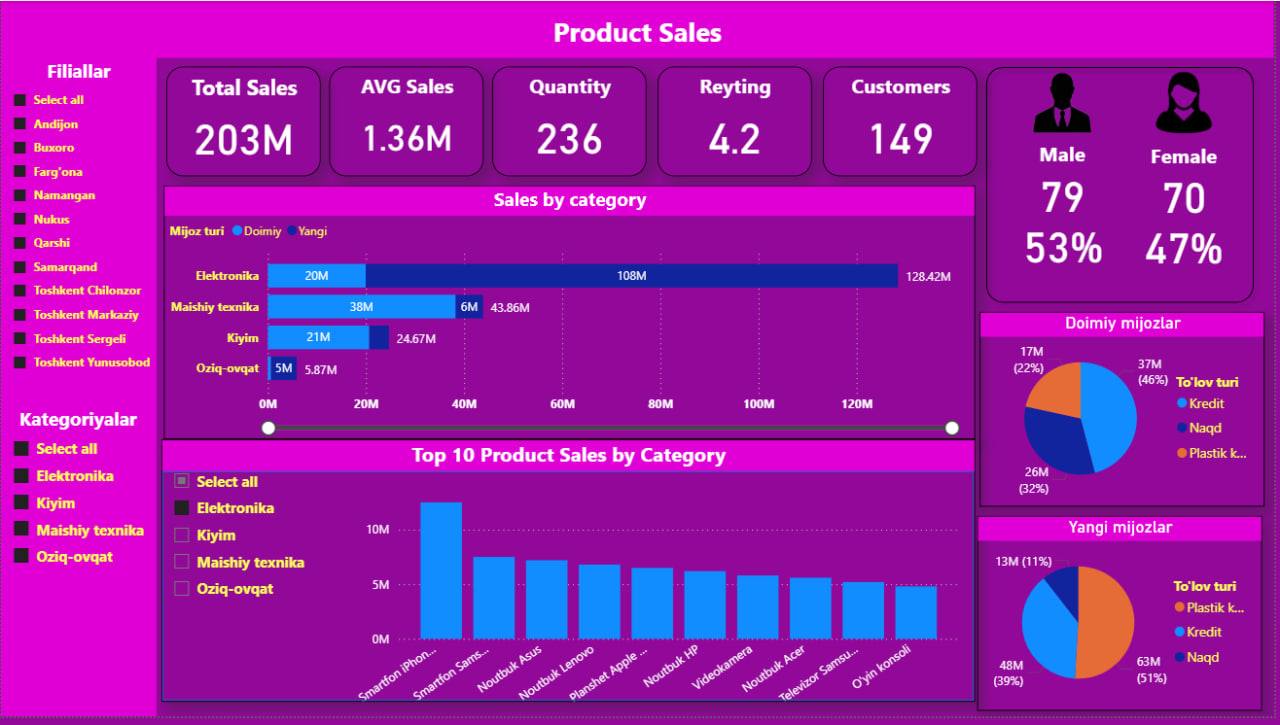

The page's visual inventory and layout, read from the dashboard file:
{"tool":"powerbi","page":{"name":"Product Sales","canvas":[1280,720],"ordinal":0},"visuals":[{"type":"shape","box":[0,0,1280.3,57.5],"z":0},{"type":"shape","box":[0,0,156.5,720.2],"z":1000},{"type":"textbox","box":[542.9,7.3,194.4,50.1],"z":2000},{"type":"card","title":"Total Sales","fields":{"Values":["Sum(Products.Jami)"]},"box":[166.3,66,155.3,110.1],"z":3000},{"type":"card","title":"AVG Sales","fields":{"Values":["Avg(Products.Jami)"]},"box":[330.2,66,155.3,110.1],"z":4000},{"type":"card","title":"Male","fields":{"Values":["Products.% Male"]},"box":[1022.3,210.3,91.7,68.5],"z":5000},{"type":"card","title":"Reyting","fields":{"Values":["Avg(Products.Reyting)"]},"box":[660.3,66,155.3,110.1],"z":6000},{"type":"card","title":"Female","fields":{"Values":["Products.% Female"]},"box":[1139.7,203,100.3,84.4],"z":7000},{"type":"card","title":"Quantity","fields":{"Values":["Sum(Products.Miqdori)"]},"box":[494,66,155.3,110.1],"z":8000},{"type":"slicer","title":"Filiallar","fields":{"Values":["Products.Filial"]},"box":[0,57.5,156.5,325.3],"z":9000},{"type":"card","title":"Customers","fields":{"Values":["Products.Customers"]},"box":[826.6,66,155.3,110.1],"z":10000},{"type":"shape","box":[981.9,57.5,287.4,255.6],"z":11000},{"type":"image","box":[1026,66,81.9,73.4],"z":12000},{"type":"card","title":"Male","fields":{"Values":["Products.Male"]},"box":[1017.4,139.4,100.3,80.7],"z":13000},{"type":"card","title":"Female","fields":{"Values":["Products.Female"]},"box":[1139.7,141.8,100.3,78.3],"z":14000},{"type":"image","box":[1149.5,66,80.7,73.4],"z":15000},{"type":"barChart","title":"Sales by category","fields":{"Y":["Sum(Products.Jami)"],"Category":["Products.Kategoriya"],"Series":["Products.Mijoz turi"]},"box":[163.9,185.9,815.6,255.6],"z":16000},{"type":"columnChart","fields":{"Category":["Category.Mahsulot"],"Y":["Sum(Category.Jami)"]},"box":[351,474.5,617.5,245.8],"z":17000},{"type":"shape","title":"Top 10 Product Sales by Category","box":[161.4,441.4,818.1,264.1],"z":18000},{"type":"slicer","title":"Kategoriyalar","fields":{"Values":["Products.Kategoriya"]},"box":[0,407.5,155.1,185.2],"z":19000},{"type":"slicer","fields":{"Values":["Category.Kategoriya"]},"box":[161.9,465.2,155.1,255.2],"z":20000},{"type":"pieChart","title":"Doimiy mijozlar","fields":{"Category":["Products.To'lov turi"],"Y":["Sum(Products.Jami)"]},"box":[983.9,312.9,286.8,196],"z":21000},{"type":"pieChart","title":"Yangi mijozlar","fields":{"Category":["Products.To'lov turi"],"Y":["Sum(Products.Jami)"]},"box":[982.5,518.7,286.8,196],"z":22000}]}

Visuals, with their boxes in screenshot pixels (x1, y1, x2, y2), scaled from the page's 1280x720 canvas onto the 1280x725 screenshot:
shape: <box>0,0,1279,58</box>
shape: <box>0,0,156,724</box>
textbox: <box>543,7,737,58</box>
"Total Sales" card: <box>166,66,322,177</box>
"AVG Sales" card: <box>330,66,486,177</box>
"Male" card: <box>1022,212,1114,281</box>
"Reyting" card: <box>660,66,816,177</box>
"Female" card: <box>1140,204,1240,289</box>
"Quantity" card: <box>494,66,649,177</box>
"Filiallar" slicer: <box>0,58,156,385</box>
"Customers" card: <box>827,66,982,177</box>
shape: <box>982,58,1269,315</box>
image: <box>1026,66,1108,140</box>
"Male" card: <box>1017,140,1118,222</box>
"Female" card: <box>1140,143,1240,222</box>
image: <box>1150,66,1230,140</box>
"Sales by category" barChart: <box>164,187,980,445</box>
columnChart - Category.Mahsulot x Sum(Category.Jami): <box>351,478,968,724</box>
"Top 10 Product Sales by Category" shape: <box>161,444,980,710</box>
"Kategoriyalar" slicer: <box>0,410,155,597</box>
slicer - Category.Kategoriya: <box>162,468,317,724</box>
"Doimiy mijozlar" pieChart: <box>984,315,1271,512</box>
"Yangi mijozlar" pieChart: <box>982,522,1269,720</box>
